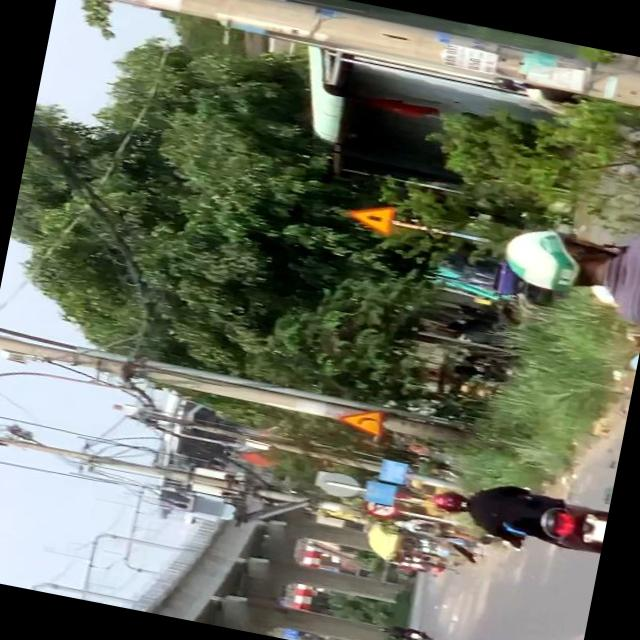W-201a: (333, 400, 386, 439)
W-207b: (342, 195, 397, 237)
